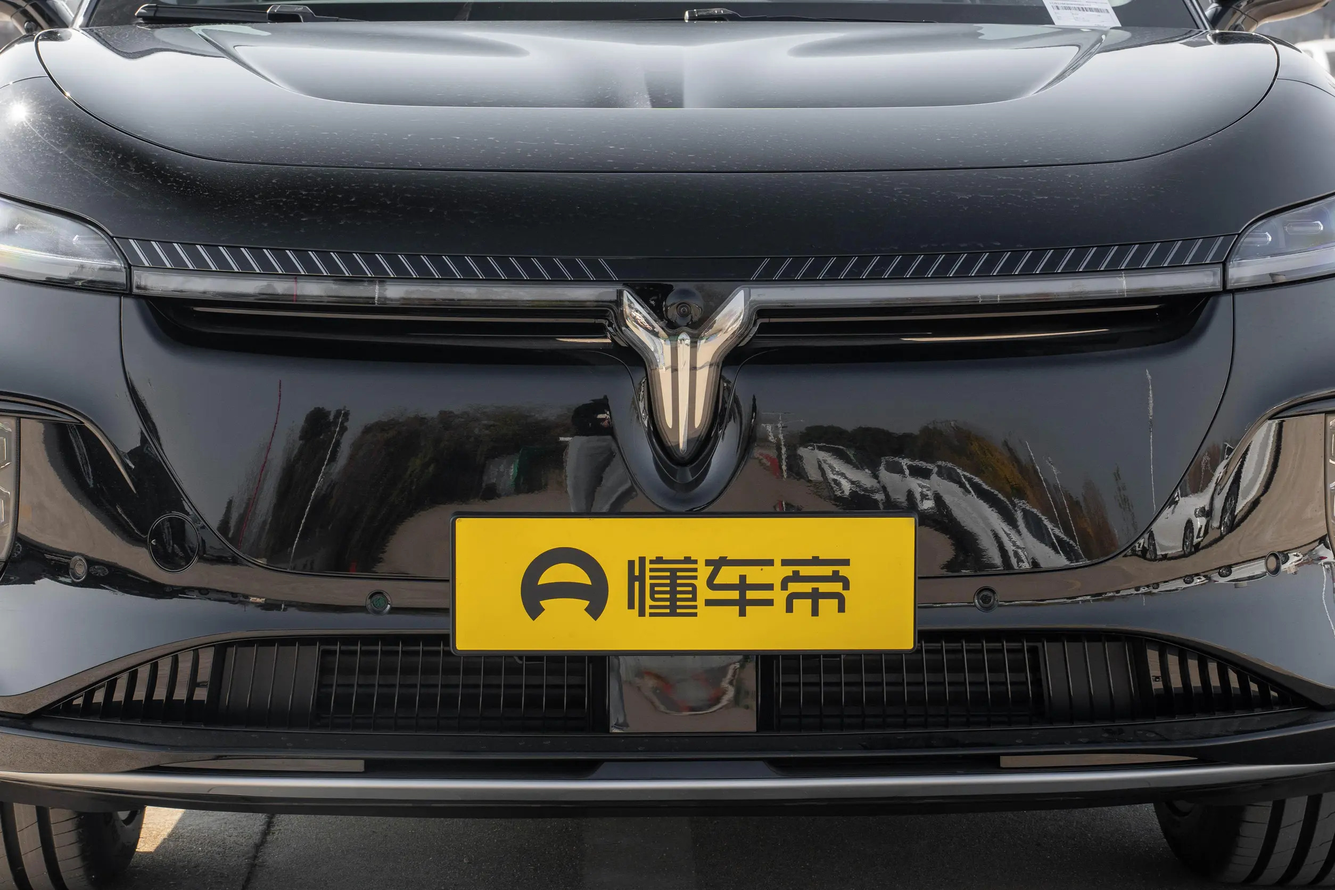VOYAH: (623, 290, 744, 453)
